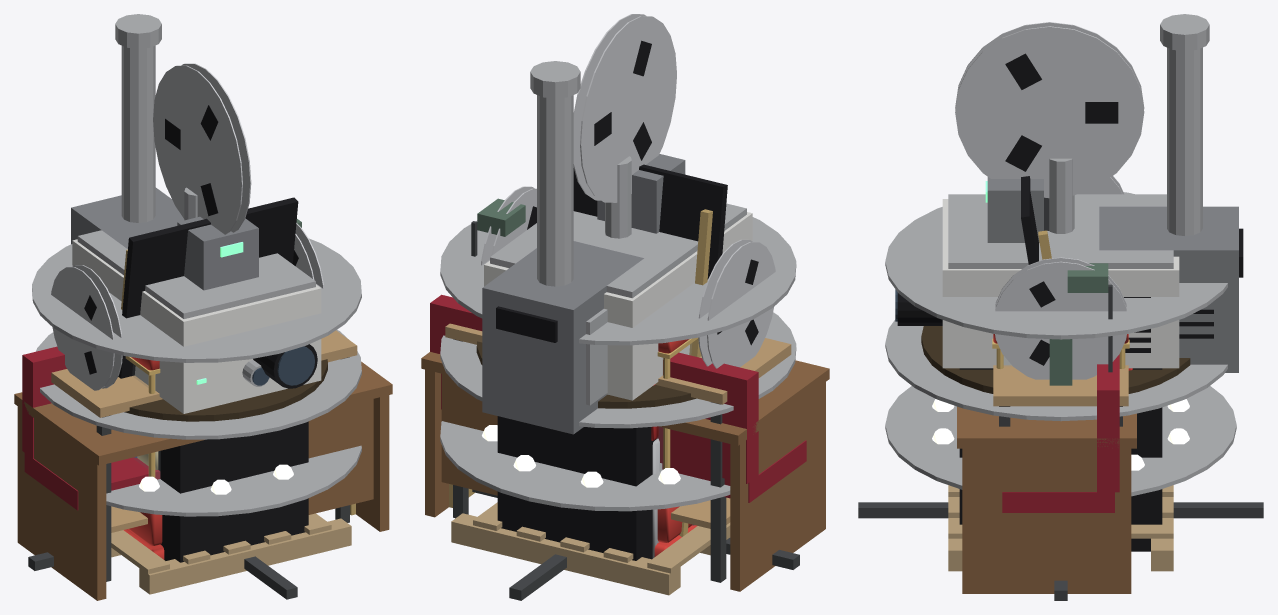
The model's file is library.glb.
The picture shows the model from 3 angles, left to right: view 1: azimuth 30°, elevation 25°; view 2: azimuth 150°, elevation 25°; view 3: azimuth 270°, elevation 25°; orthographic projection. The views are drawn at different scales.
Visible parts, largest first — view 1: platter, projdig, computer, reel_up, bench, proj35, pallet, easel, lobbybench, popcorn, chandelier; view 2: platter, proj35, projdig, computer, bench, reel_up, lobbybench, pallet, easel, popcorn, chandelier, soda; view 3: platter, computer, reel_up, projdig, proj35, bench, lobbybench, pallet, easel, chandelier.
Part boxes in pixels (x1,y1,x2,y2): platter: (28,187,361,599); projdig: (72,230,321,562); computer: (14,361,392,600); reel_up: (153,63,251,234); bench: (51,219,357,581); proj35: (71,14,269,386); pallet: (111,513,351,594); easel: (118,197,298,378); lobbybench: (22,346,355,515); popcorn: (123,356,164,559); chandelier: (139,464,293,494); platter: (440,154,799,600); proj35: (482,61,643,434); projdig: (484,203,752,560); computer: (421,352,829,591); bench: (445,186,791,582); reel_up: (573,14,676,202); lobbybench: (430,294,806,507); pallet: (451,502,730,595); easel: (573,164,727,536); popcorn: (654,337,697,556); chandelier: (482,425,680,487); soda: (651,384,662,558); platter: (858,158,1263,600); computer: (957,406,1136,593); reel_up: (955,22,1144,198); projdig: (895,194,1179,551); proj35: (1044,14,1243,372); bench: (993,176,1128,426); lobbybench: (1002,354,1119,512); pallet: (948,485,1173,571); easel: (1021,176,1051,264); chandelier: (932,399,1189,470).
Size of the model in its own units: 1.8 by 2.44 by 1.8.
